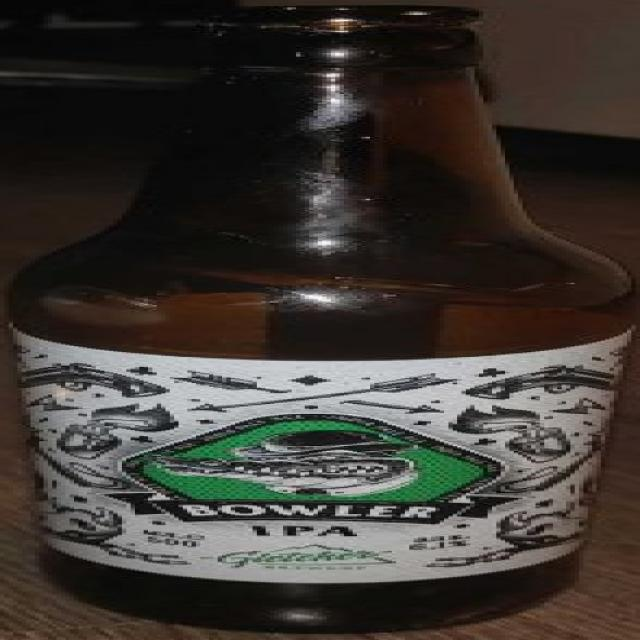Bowler IPA: (0, 1, 640, 640)
